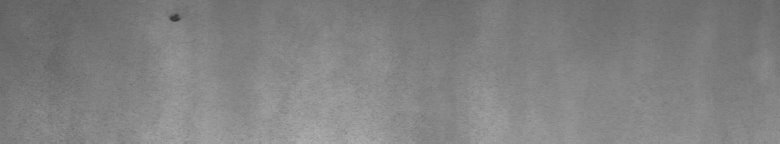fi: (163, 8, 183, 28)
